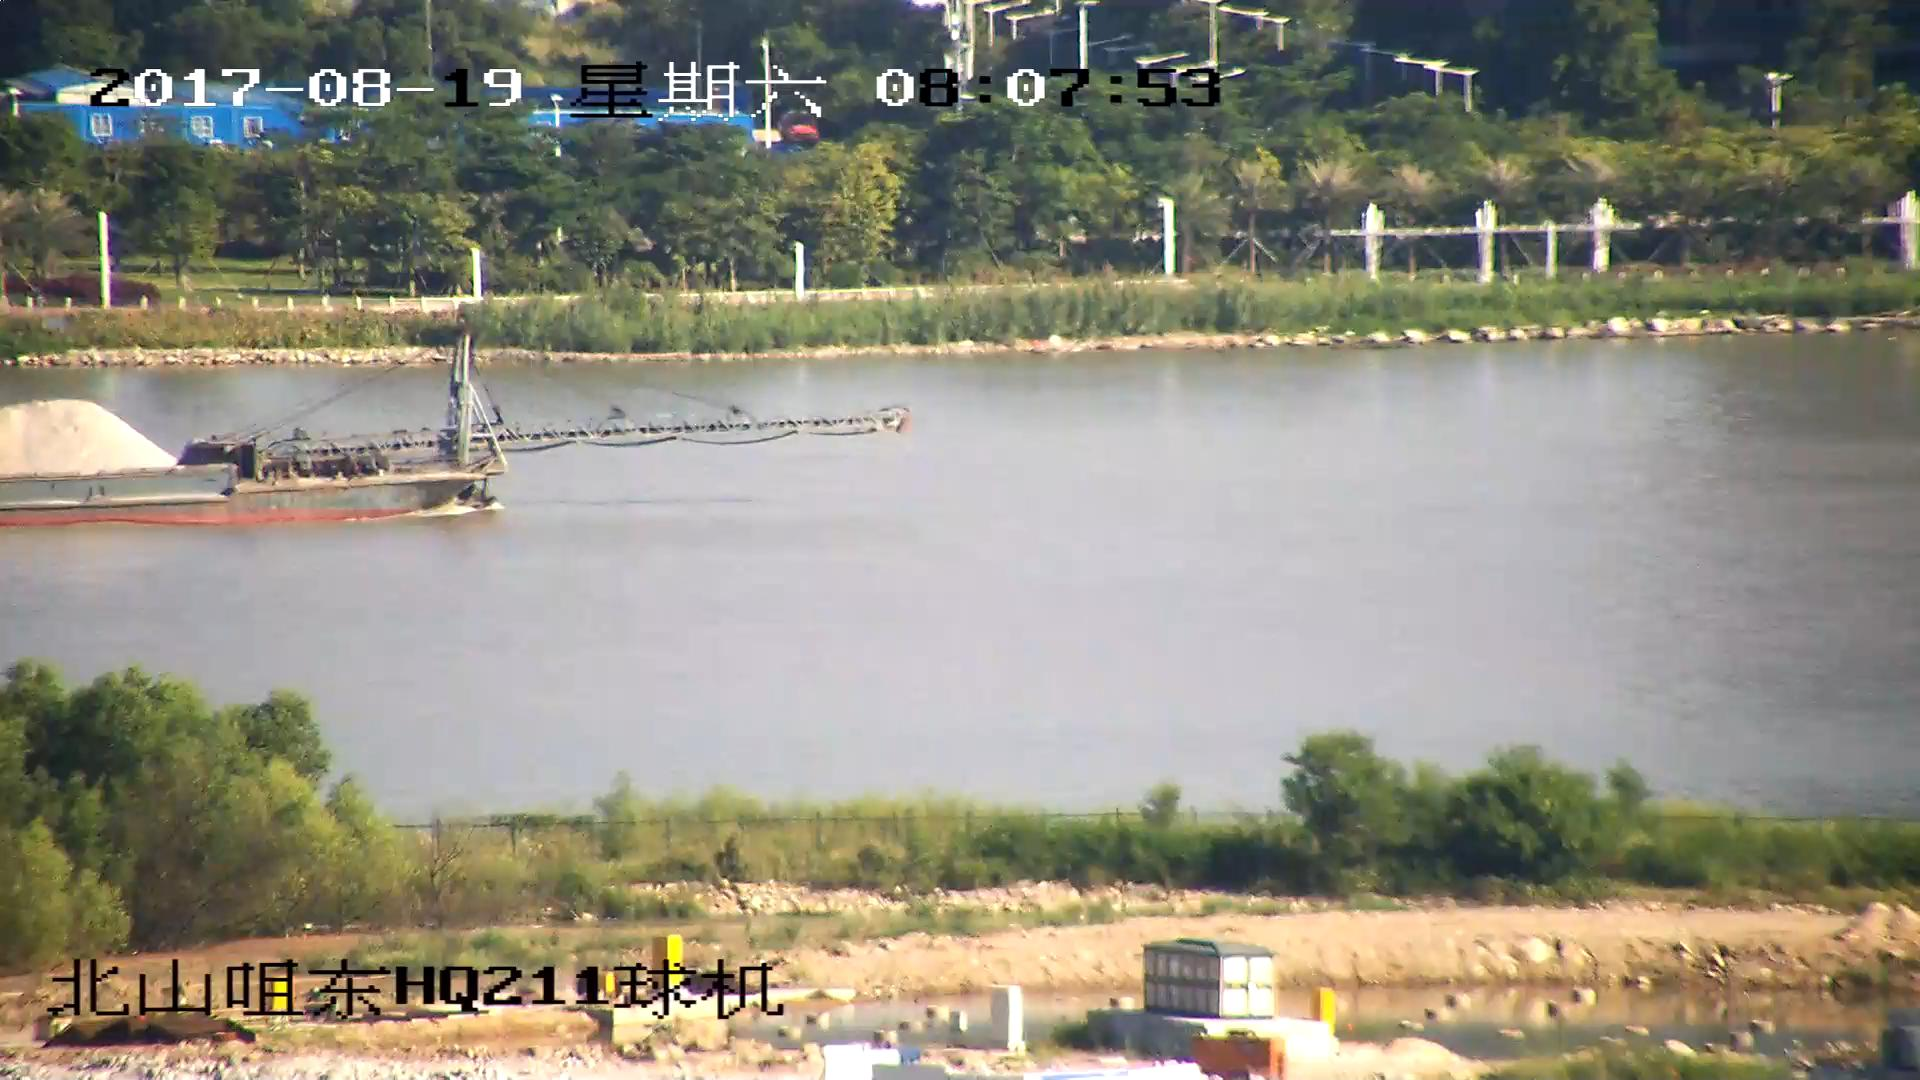ore carrier: (1, 325, 917, 526)
